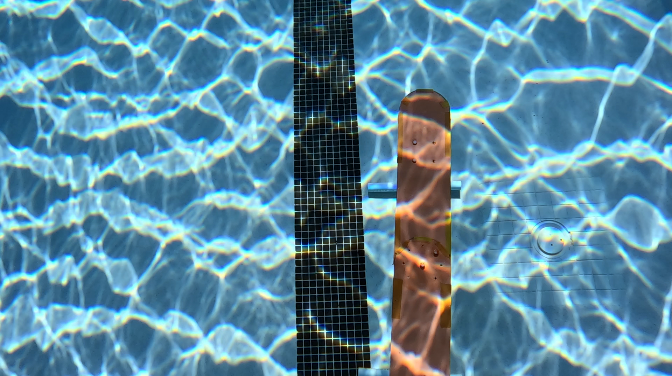pathmarker: (391, 88, 453, 375)
